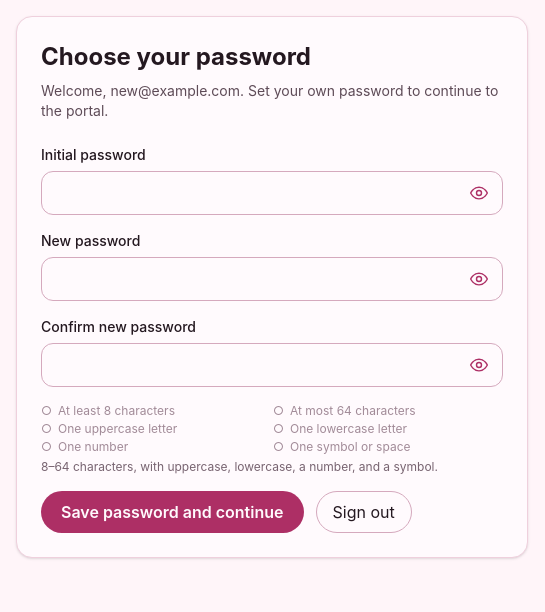
Test case: validates password confirmation and displays server errors without continuing
Type "Initial123!" into the password field labelled "Initial password". click: (272, 193)
box: [41,171,503,215]
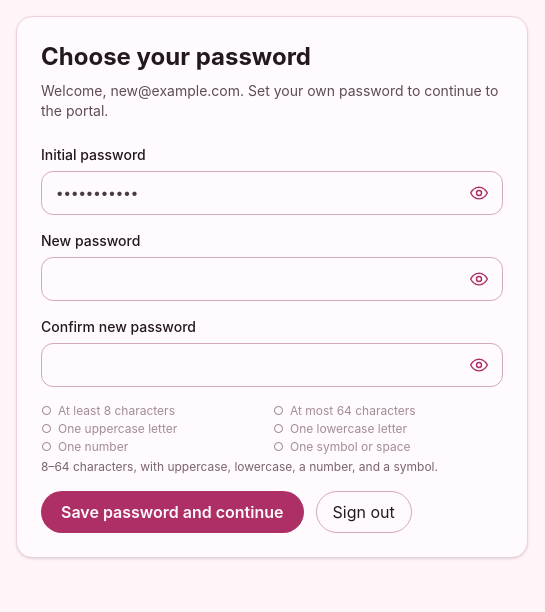
Type "OwnPassword123!" into the password field labelled "New password". click: (272, 279)
box: [41,257,503,301]
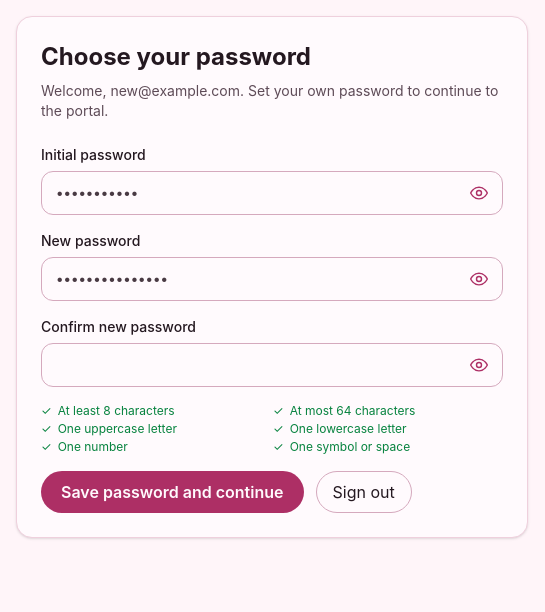
Type "Mismatch123!" into the password field labelled "Confirm new password". click: (272, 365)
box: [41,343,503,387]
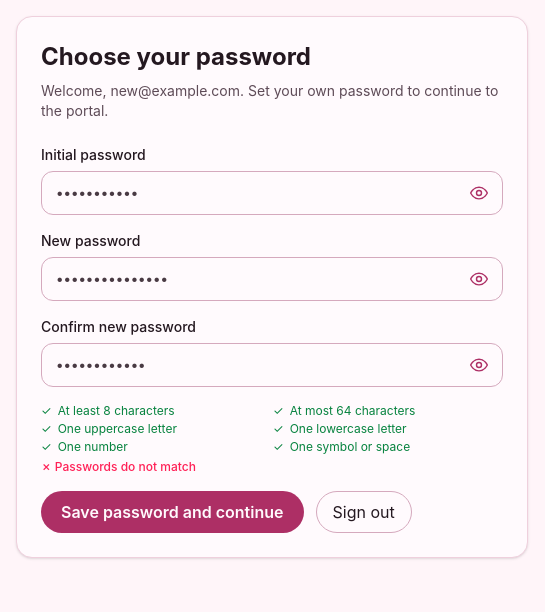
Submit the form named "Save password and continue", box [41,145,503,533]
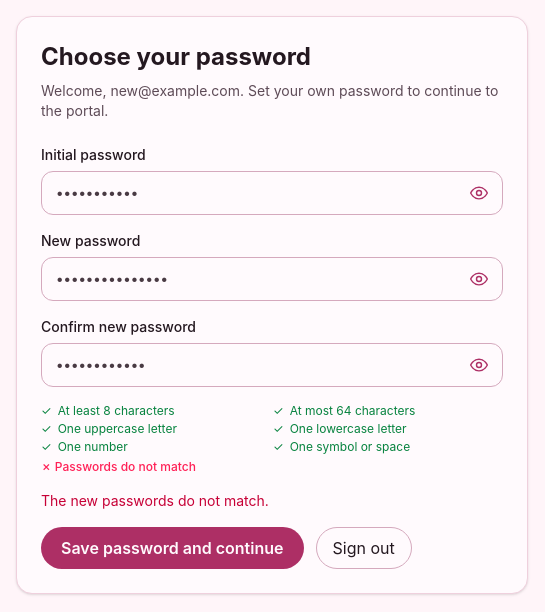
Result: the message shows "do not match" at [41,492,269,509]
Type "OwnPassword123!" into the password field labelled "Confirm new password". click: (272, 365)
box: [41,343,503,387]
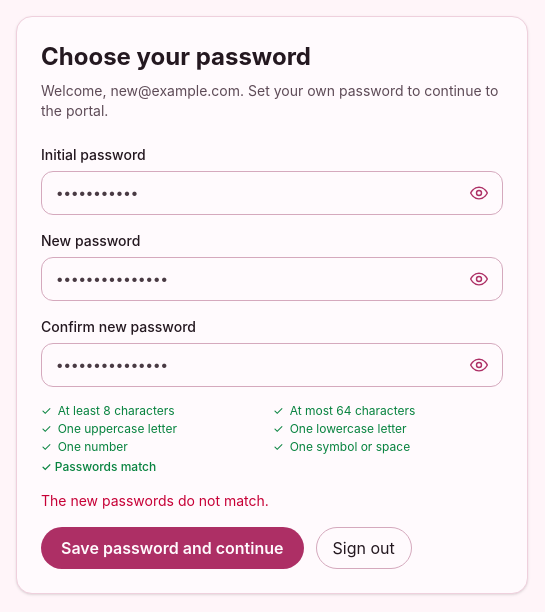
Submit the form named "Save password and continue", box [41,145,503,569]
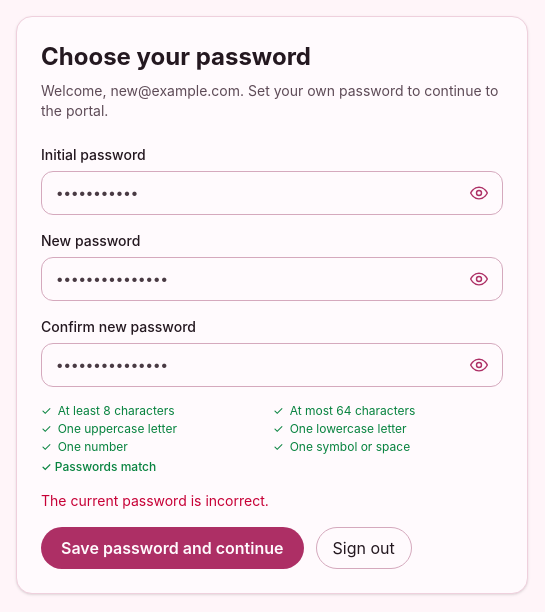
Result: the message shows "current password is incorrect" at [41,492,269,509]
